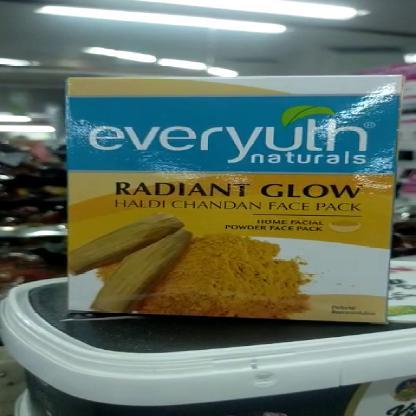EY HALDICHANDAN FP HF POWDER 25G: (67, 78, 393, 322)
